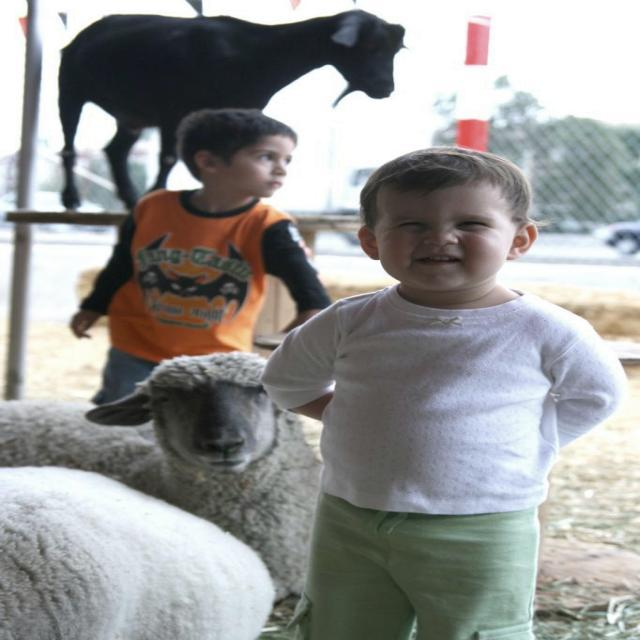Goat: (0, 349, 324, 603), (55, 8, 409, 211), (0, 464, 276, 639)
